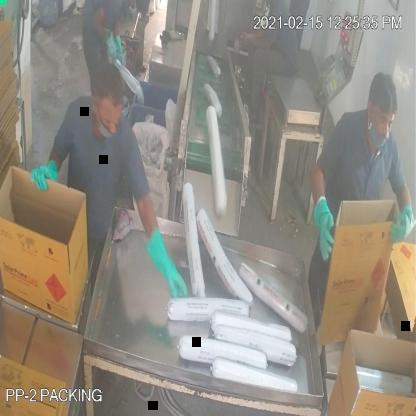glove: (141, 221, 193, 308), (306, 196, 342, 270), (27, 162, 65, 197), (383, 204, 416, 241)
no_glove: (236, 26, 276, 58)
